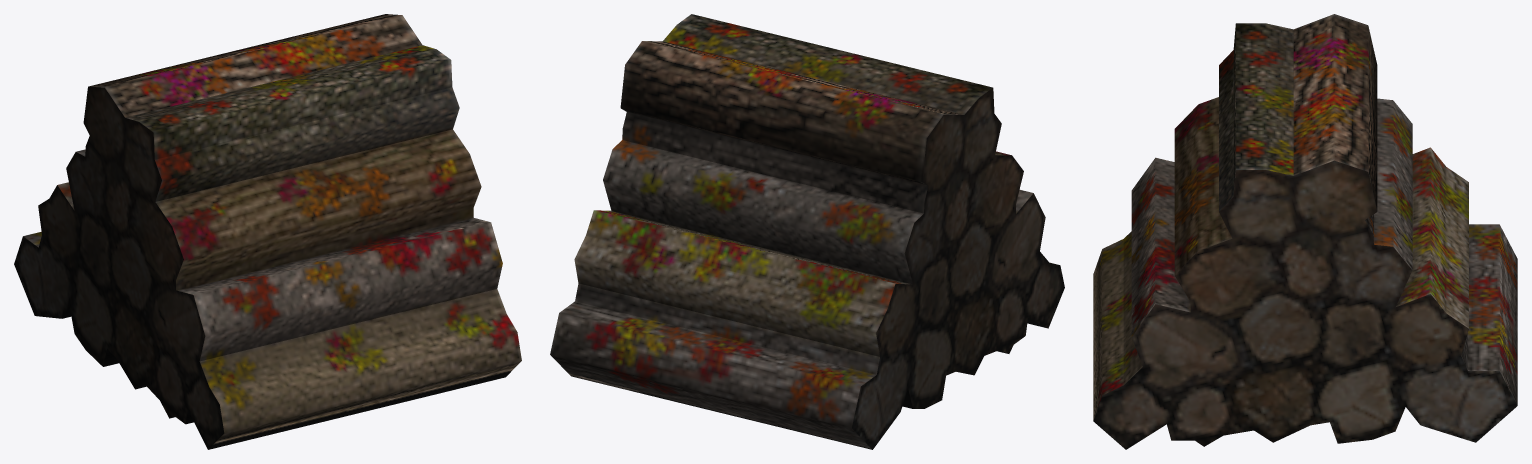
File: Woodpile.fbx
3 renders of one model, left to right at view 1: azimuth 30°, elevation 25°; view 2: azimuth 150°, elevation 25°; view 3: azimuth 270°, elevation 25°, orthographic.
Visible parts, largest first — view 1: Woodpile; view 2: Woodpile; view 3: Woodpile.
Part boxes in pixels (x1,y1,x2,y2): Woodpile: [14, 14, 521, 449]; Woodpile: [550, 14, 1064, 449]; Woodpile: [1093, 14, 1517, 449].
Size of the model in its own units: 1.56 by 1.44 by 1.91.
